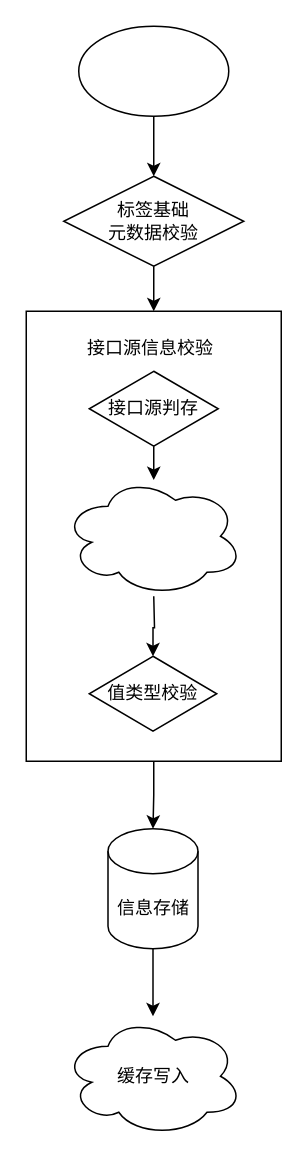
Image size: 308x1163. Some labels were removed from this diagram. Each missing label, with the box of its shape:
core服务调用 接口源结果查询: (62, 475, 243, 596)
实时标签创建: (77, 25, 229, 116)
